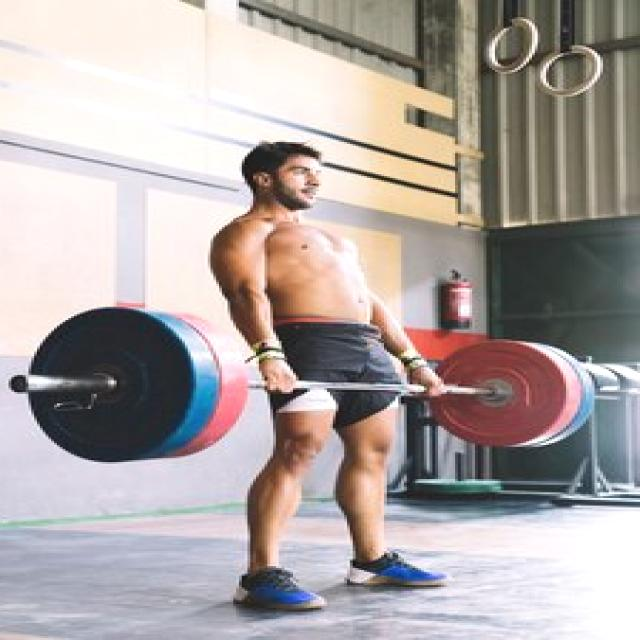barbell_plate_side: (463, 303, 615, 462), (9, 303, 160, 462)
